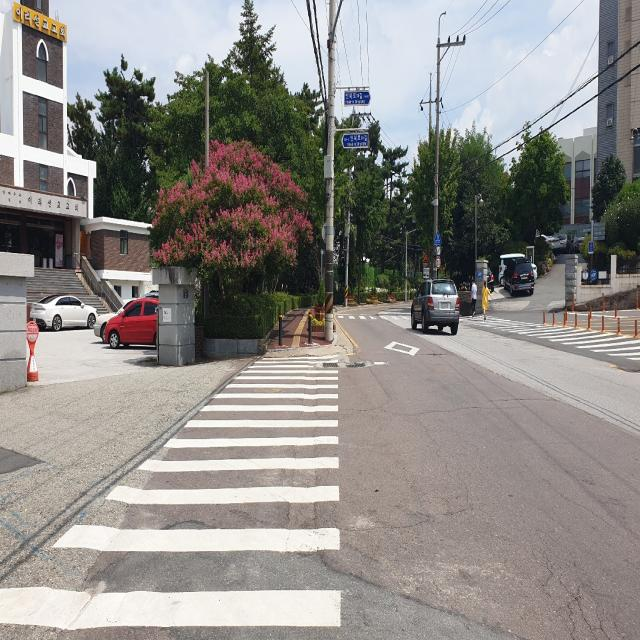횡단보도: (0, 353, 343, 640), (562, 331, 638, 360), (493, 322, 557, 342), (338, 314, 408, 320)
